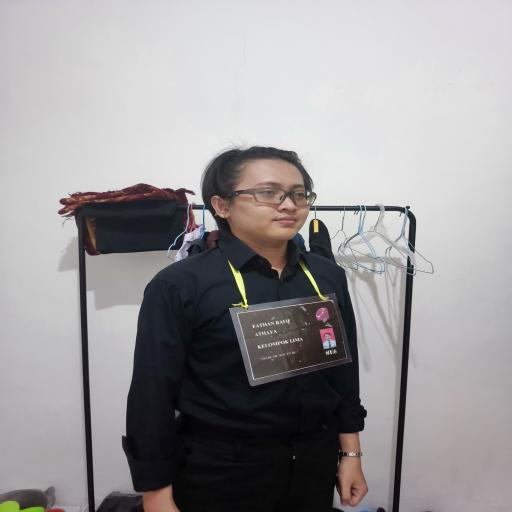celana_benar: (174, 424, 345, 512)
kemeja_salah: (112, 258, 378, 432)
nametag_ada: (216, 272, 364, 384)
